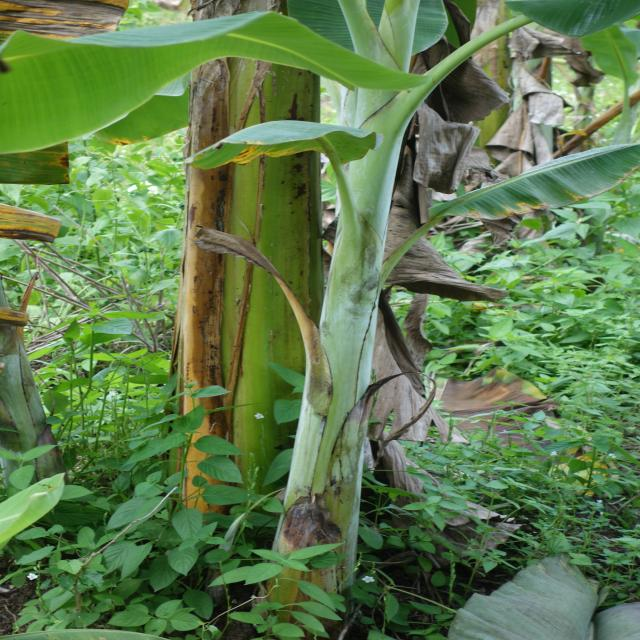Banana-plant: (234, 142, 431, 640), (155, 0, 313, 542)
